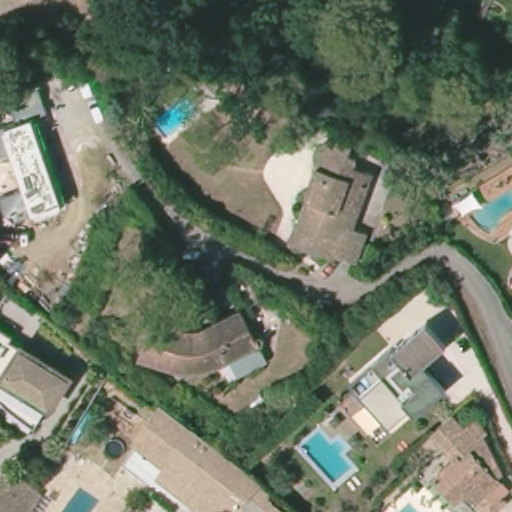pool: (294, 423, 364, 489), (462, 188, 512, 233), (151, 96, 196, 140)
